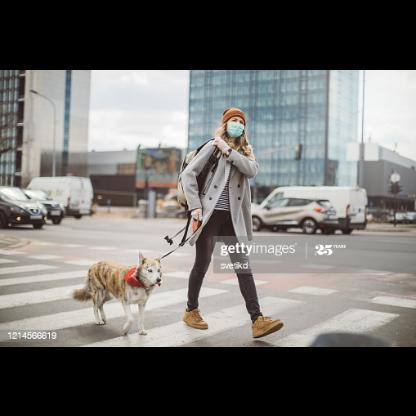Surgical Mask: (223, 102, 245, 140)
